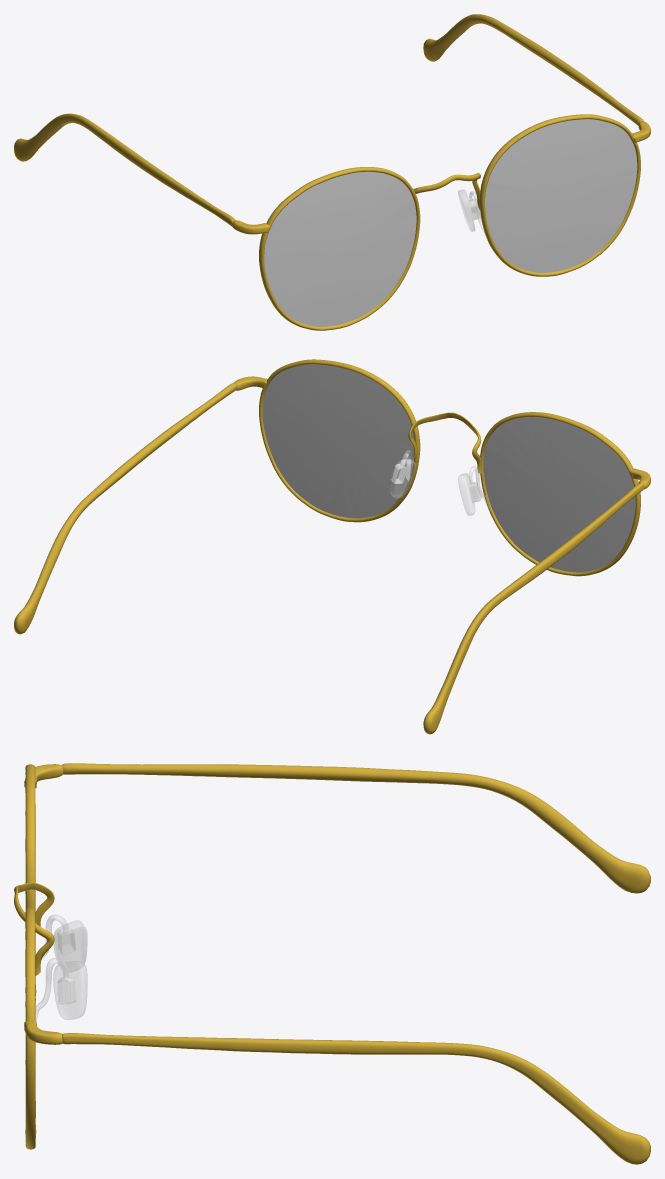
The picture shows the model from 3 angles, top to bottom: view 1: azimuth 30°, elevation 25°; view 2: azimuth 150°, elevation 25°; view 3: azimuth 270°, elevation 25°; orthographic projection. The views are drawn at different scales.
Parts seen in each view (by area): view 1: lens, Temples, Rims, EndPieces, NosePars, Bridge; view 2: lens, Temples, Rims, NosePars, Bridge, EndPieces; view 3: Temples, Rims, NosePars, Bridge, EndPieces.
Part boxes in pixels (x1,y1,x2,y2): lens: (264,119,637,326); Temples: (14,14,643,226); Rims: (259,114,640,330); EndPieces: (232,121,650,234); NosePars: (458,189,485,235); Bridge: (413,173,480,210); lens: (262,364,635,572); Temples: (14,383,644,734); Rims: (259,359,640,576); NosePars: (390,450,490,515); Bridge: (408,412,481,473); EndPieces: (233,376,650,489); Temples: (62,763,650,1164); Rims: (25,764,36,1149); NosePars: (35,915,87,1020); Bridge: (14,882,54,975); EndPieces: (24,764,63,1044).
Bounding box in the file's own units: 0.0533 × 0.019 × 0.0515.
